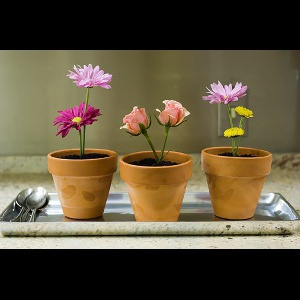flowerpot: (43, 146, 120, 222), (118, 148, 196, 222), (200, 144, 275, 220)
